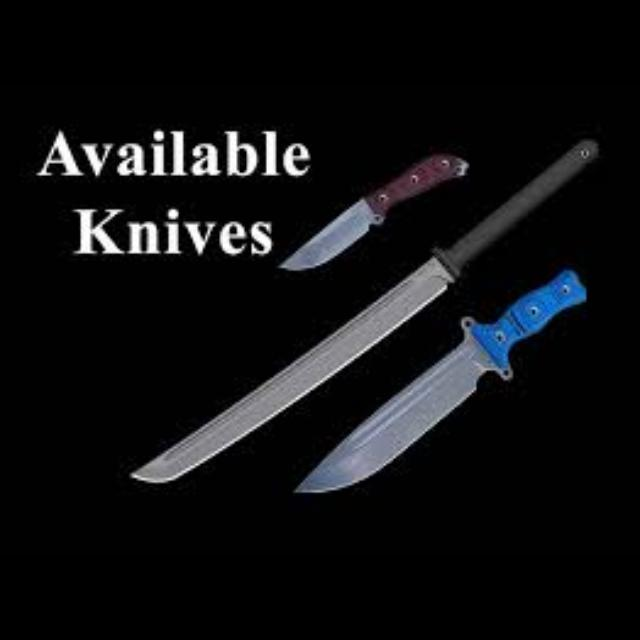knife: (127, 136, 598, 482), (290, 264, 586, 492), (277, 150, 469, 272)
